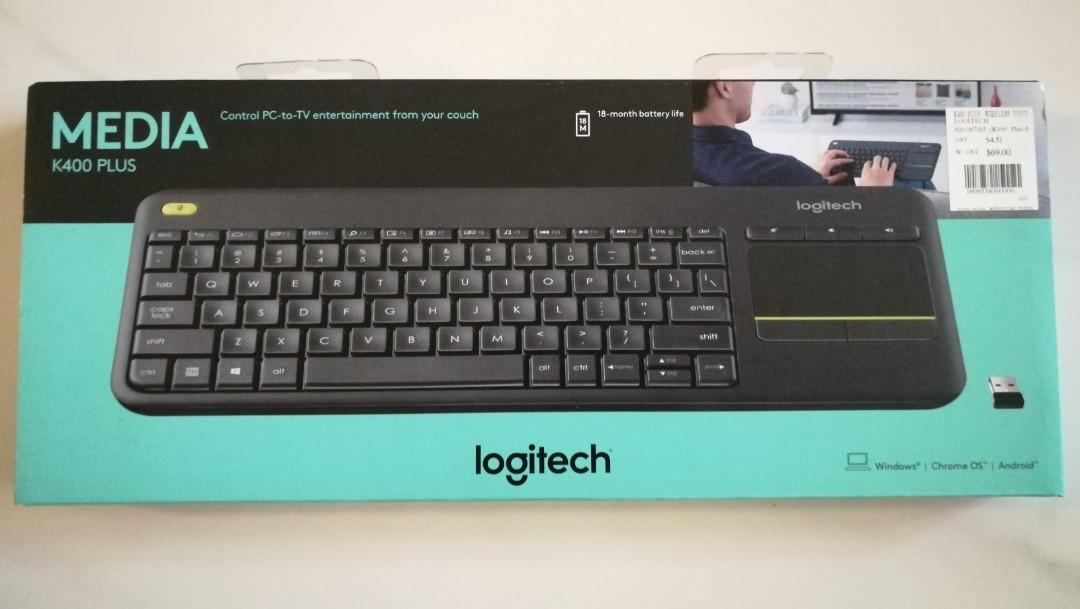logitech-keyboard-k400: (104, 185, 946, 426)
